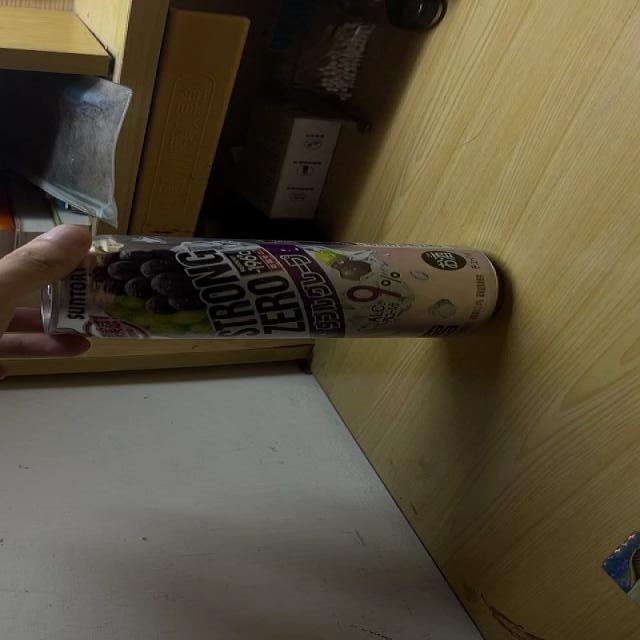Liquor: (31, 235, 502, 342)
